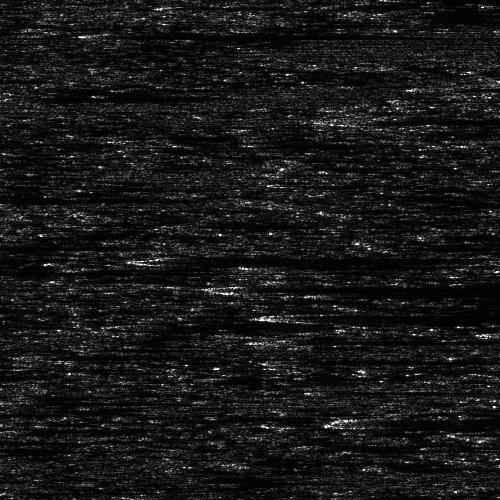object: (292, 110, 397, 129), (0, 184, 64, 213), (178, 280, 283, 293), (308, 416, 381, 429), (119, 253, 202, 264), (0, 89, 44, 108), (69, 29, 132, 38), (4, 350, 57, 359), (247, 313, 300, 318), (459, 329, 500, 334), (253, 337, 294, 342), (243, 357, 284, 362), (302, 388, 343, 391)
shadow: (0, 184, 148, 213), (230, 280, 500, 293), (345, 110, 500, 129), (161, 253, 388, 264), (101, 29, 378, 38), (345, 416, 500, 429), (0, 89, 86, 108), (31, 350, 201, 359), (0, 240, 137, 251), (274, 313, 500, 318), (0, 155, 99, 166), (0, 268, 140, 275), (273, 337, 462, 342), (264, 357, 451, 362), (0, 138, 74, 147), (0, 434, 64, 443), (323, 388, 467, 391), (0, 75, 56, 82)
